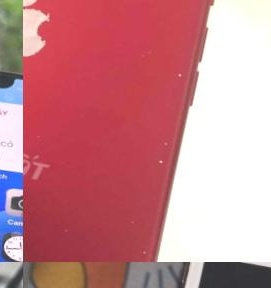scratch: (23, 0, 60, 64), (145, 124, 176, 171), (103, 237, 154, 262), (156, 58, 189, 86), (53, 214, 78, 236), (121, 209, 142, 229)
